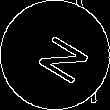N_NW: (23, 25, 87, 85)
